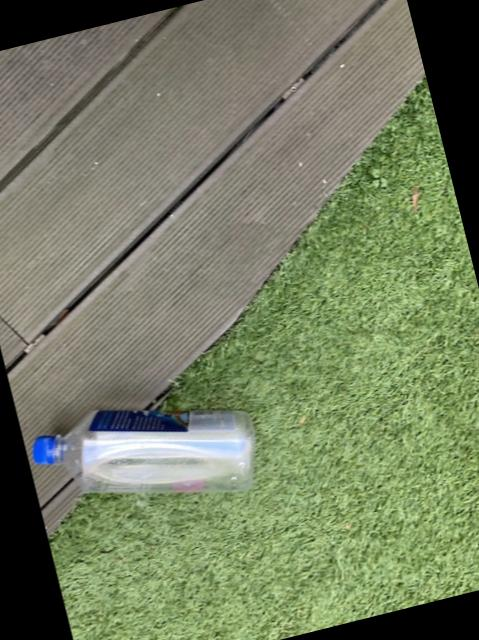plastic: (30, 409, 252, 490)
